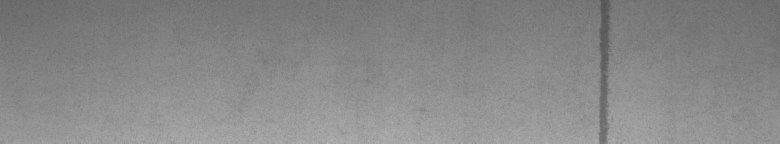hd: (593, 4, 616, 136)
